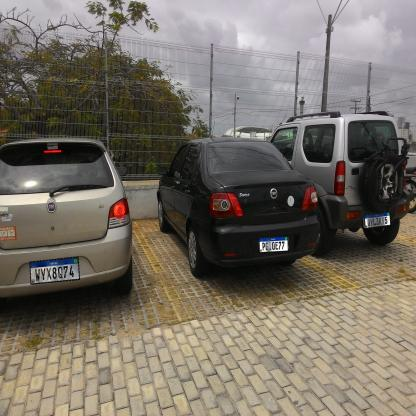PlacaM: (29, 256, 80, 284), (259, 236, 288, 253), (364, 211, 391, 229)
